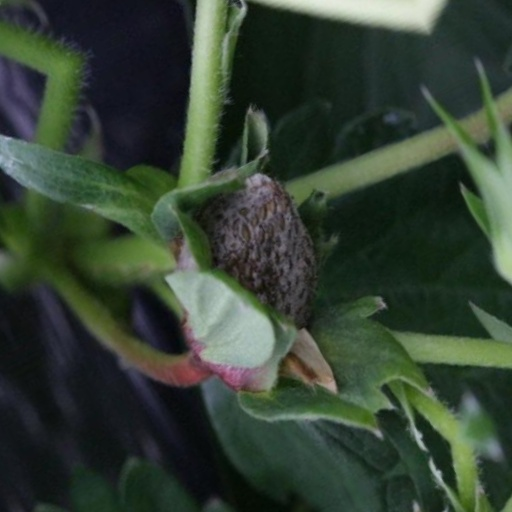Gray Mold: (153, 164, 313, 385)
